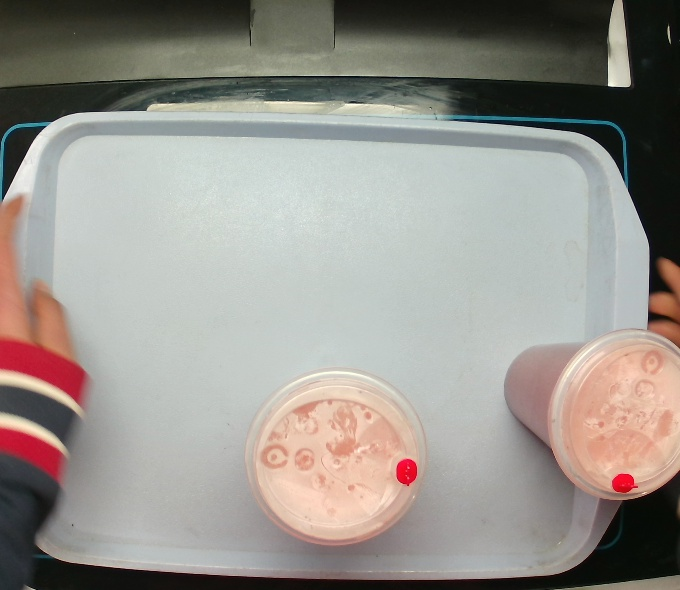wcq-XiGuaZhi: (246, 371, 431, 550), (501, 326, 680, 502)
